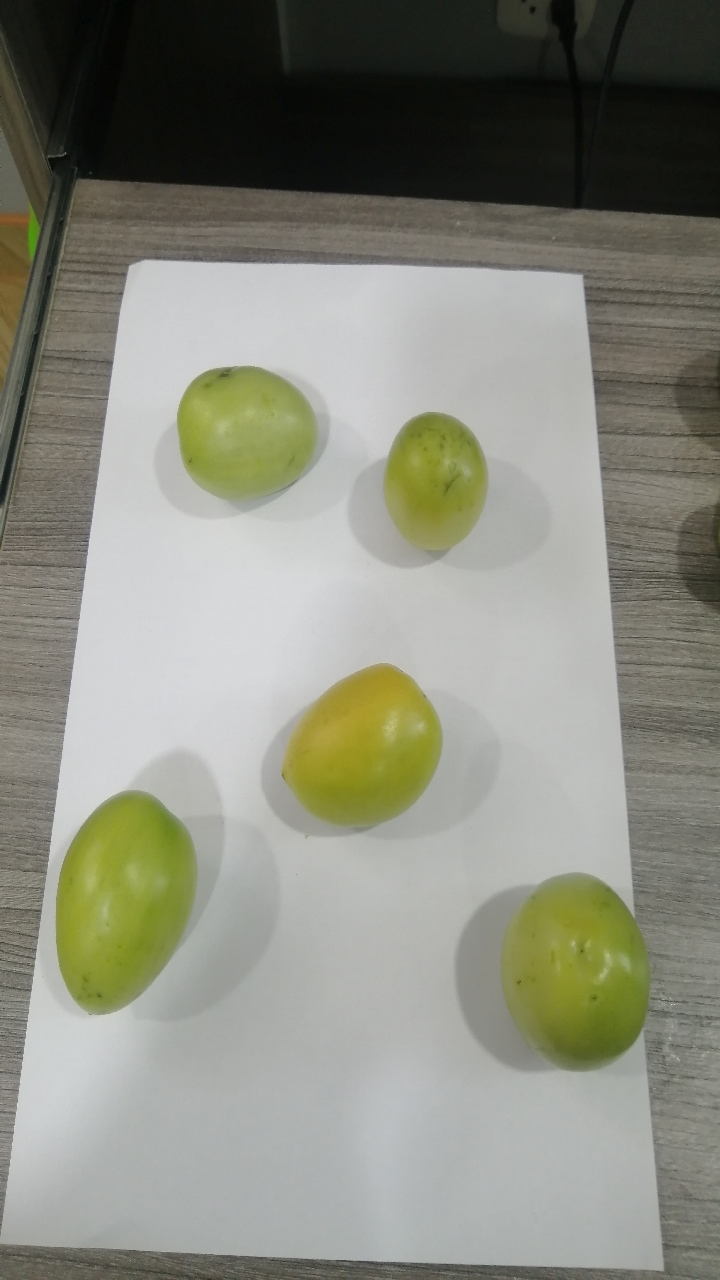tomateVerde: (31, 771, 209, 1031), (491, 863, 664, 1088), (269, 651, 457, 857), (166, 346, 326, 511), (371, 397, 514, 577)
